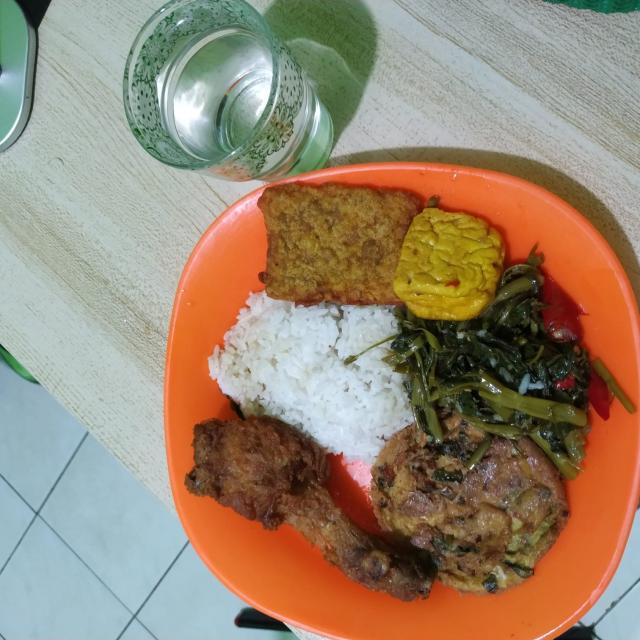ayam_goreng: (168, 376, 428, 604)
nasi_putih: (206, 237, 467, 451)
telur_ayam_dadar: (361, 398, 602, 584)
